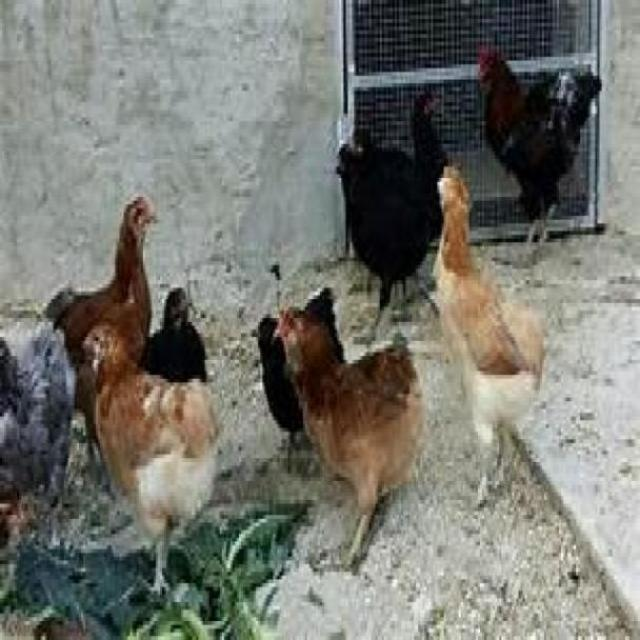Chicken: (276, 303, 423, 568), (83, 322, 220, 591), (433, 163, 546, 477), (45, 193, 160, 458), (478, 45, 604, 250), (337, 87, 450, 311), (0, 318, 77, 504), (254, 288, 345, 432), (139, 284, 209, 383)
